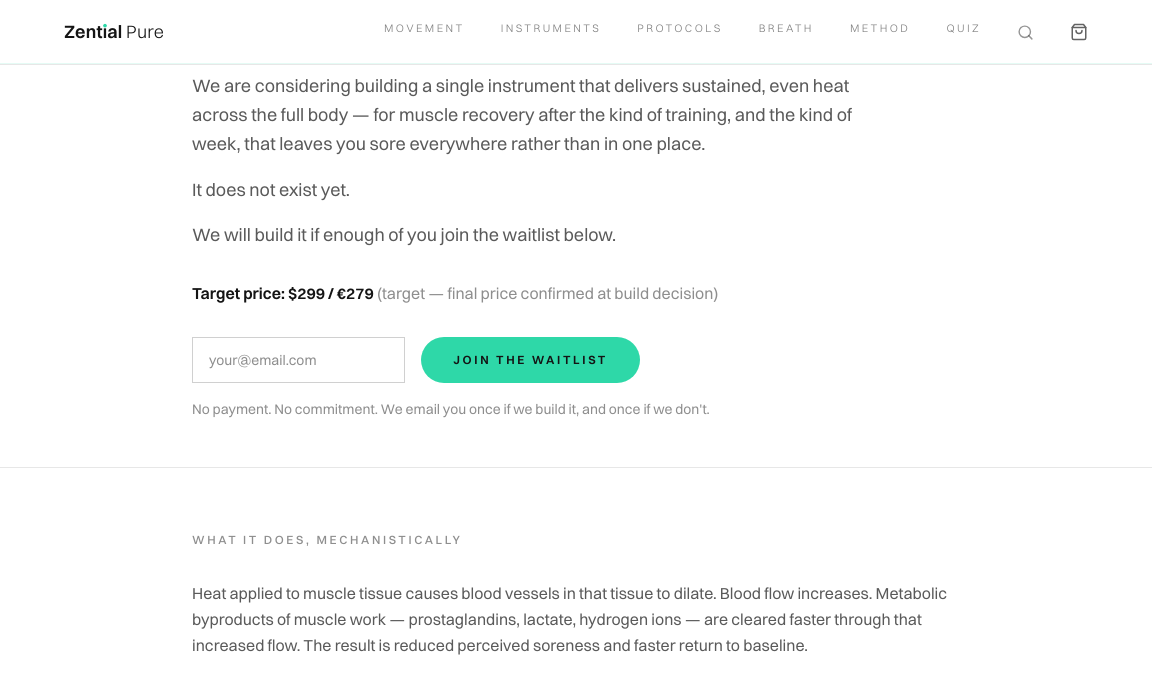
/wrap waitlist page › shows the two-emails-maximum confirmation after joining
(page scrolled)
Type "tester@example.com" into the field with placeholder "your@email.com" at (299,360), box [192,337,405,383]
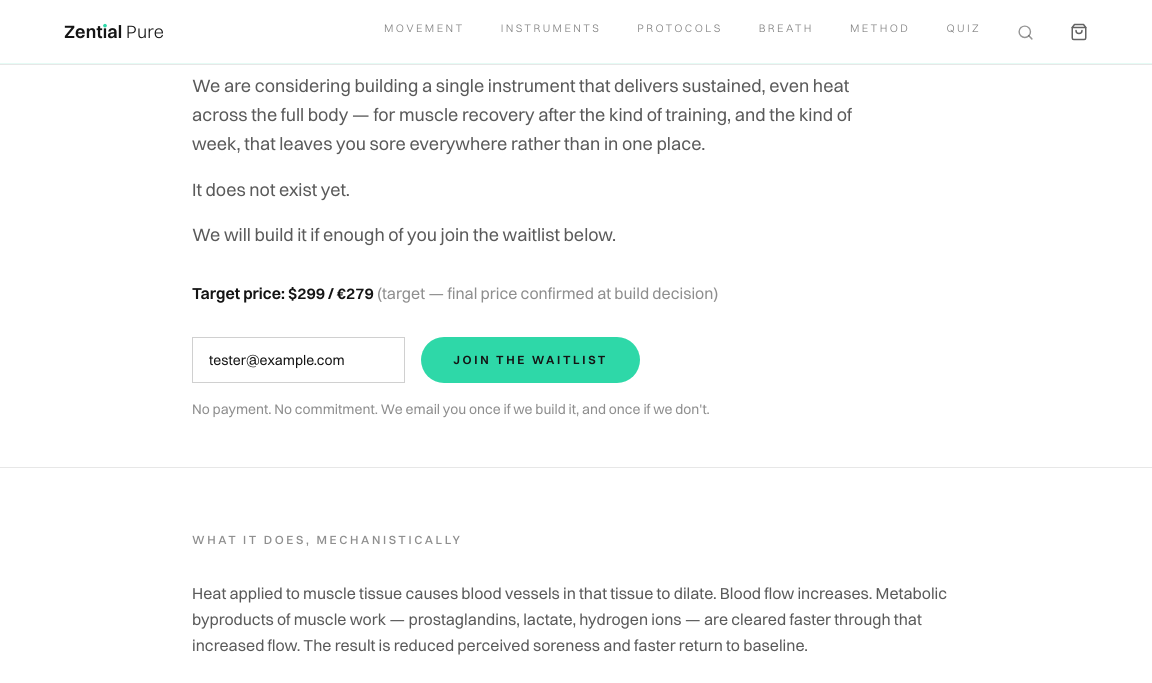
Submit the form with placeholder "your@email.com", box [192,337,640,383]
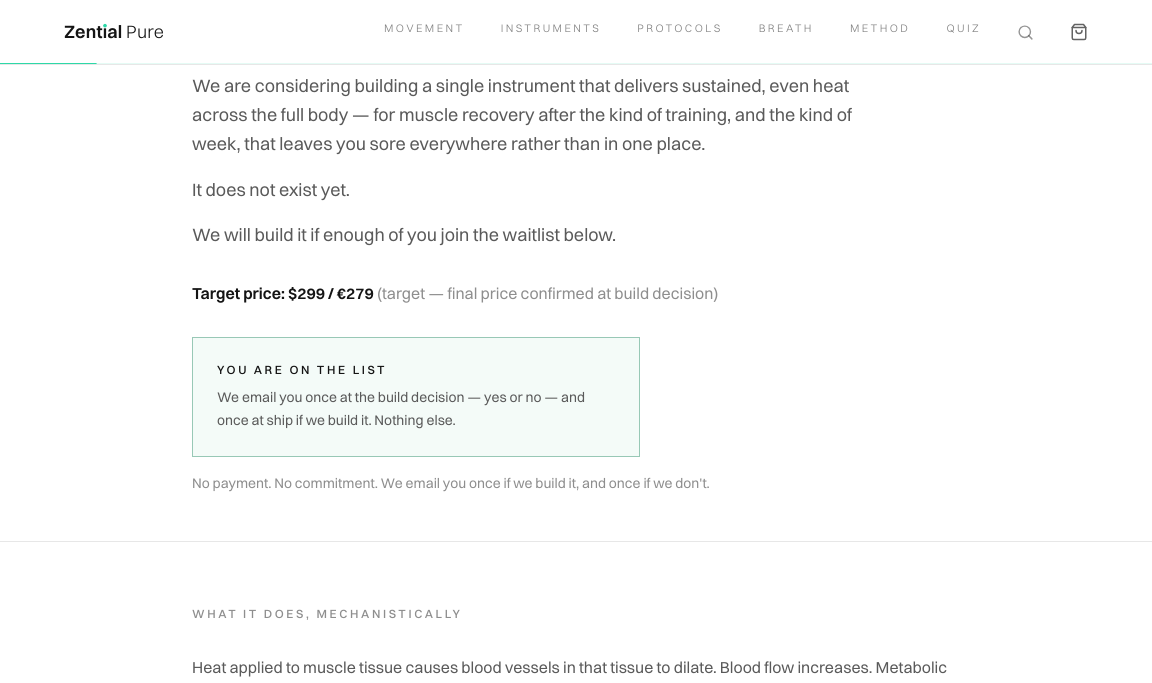
Now the text "You are on the list" is shown, box [217,362,387,377]
